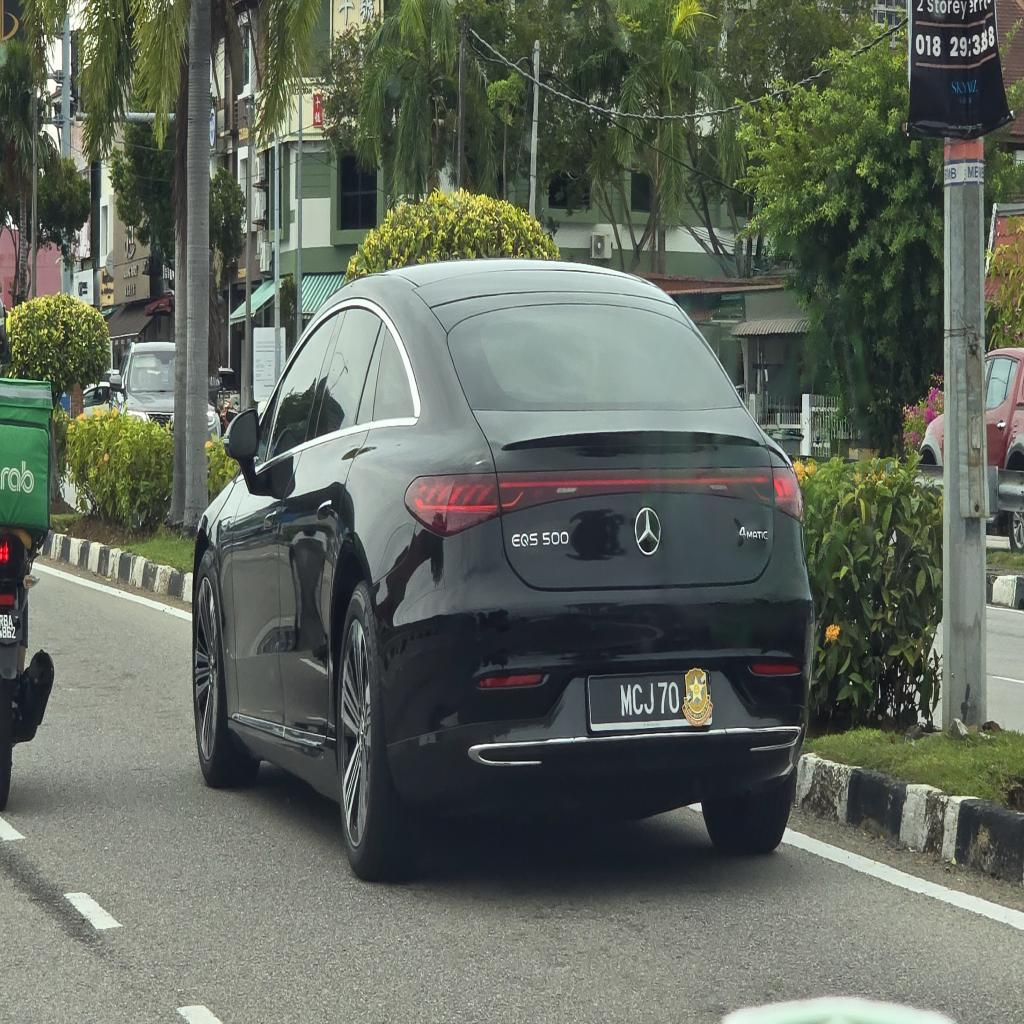car: (194, 260, 812, 878)
car plate: (589, 669, 712, 732)
